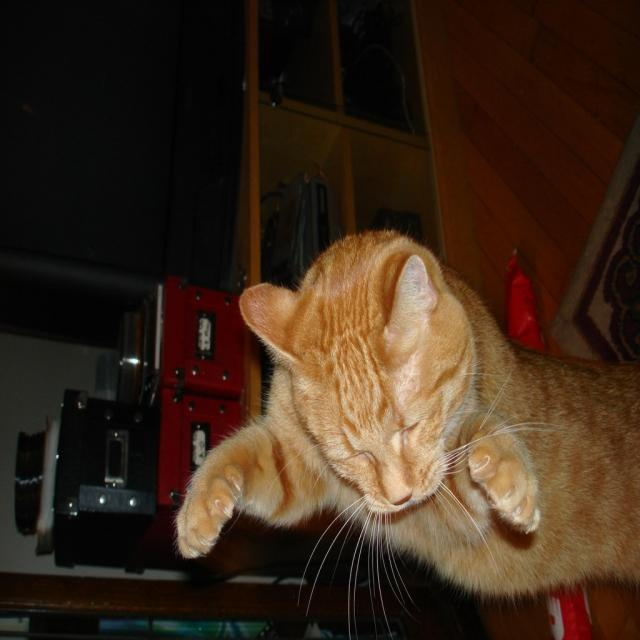Cat: (171, 227, 639, 638)
